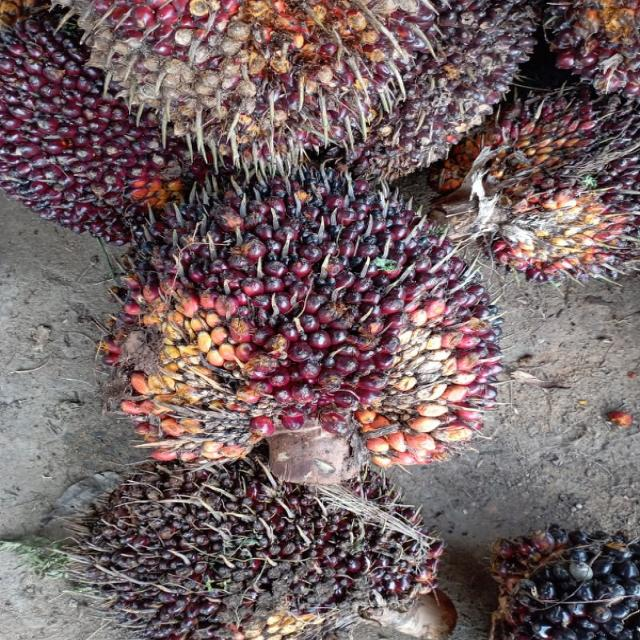fraksi 1: (84, 164, 516, 472), (65, 0, 445, 172), (73, 467, 442, 640), (0, 15, 201, 242), (451, 75, 640, 273)
